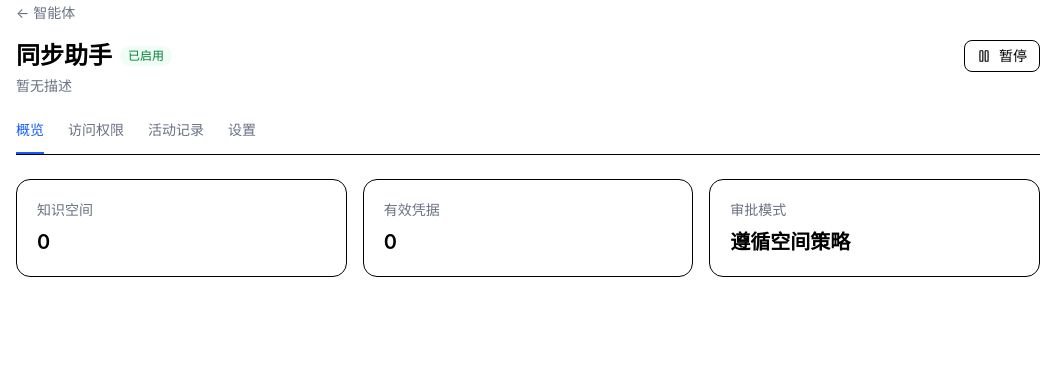
AgentDetail › shows task status and both relation endpoints without leaking extra metadata
Click the button "活动记录".
click(176, 137)  # box 148,120 -> 204,154
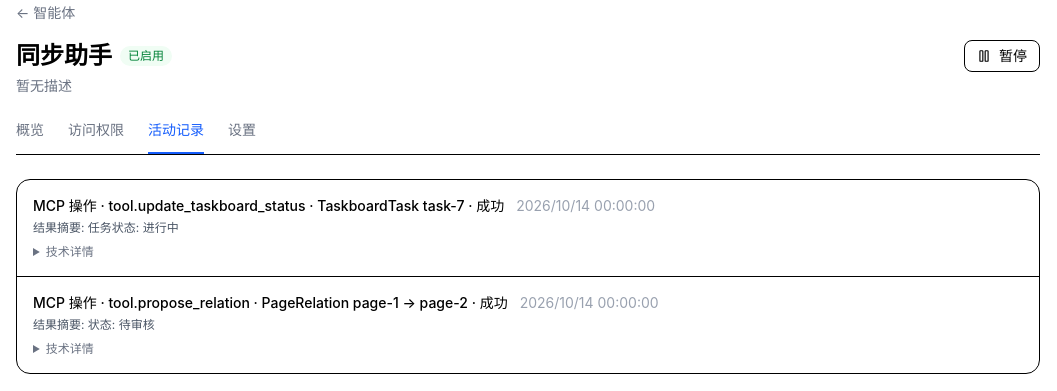
Now the text "结果摘要: 任务状态: 进行中" is shown, box 33,220 -> 179,235
